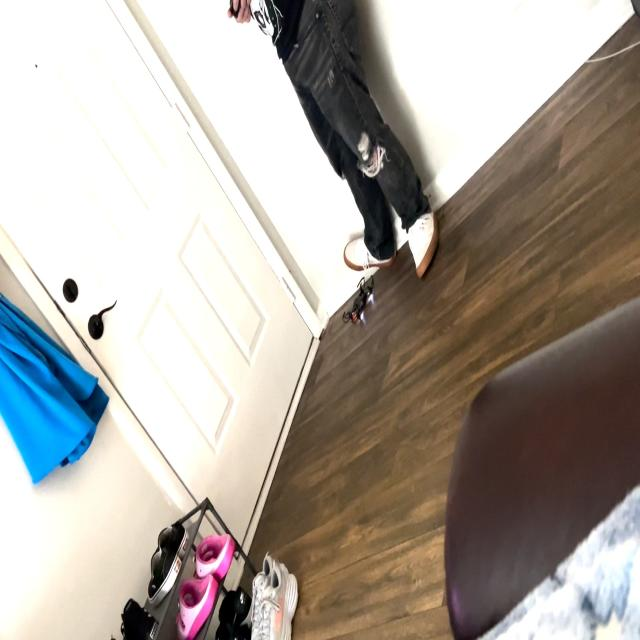drone: (331, 258, 382, 348)
